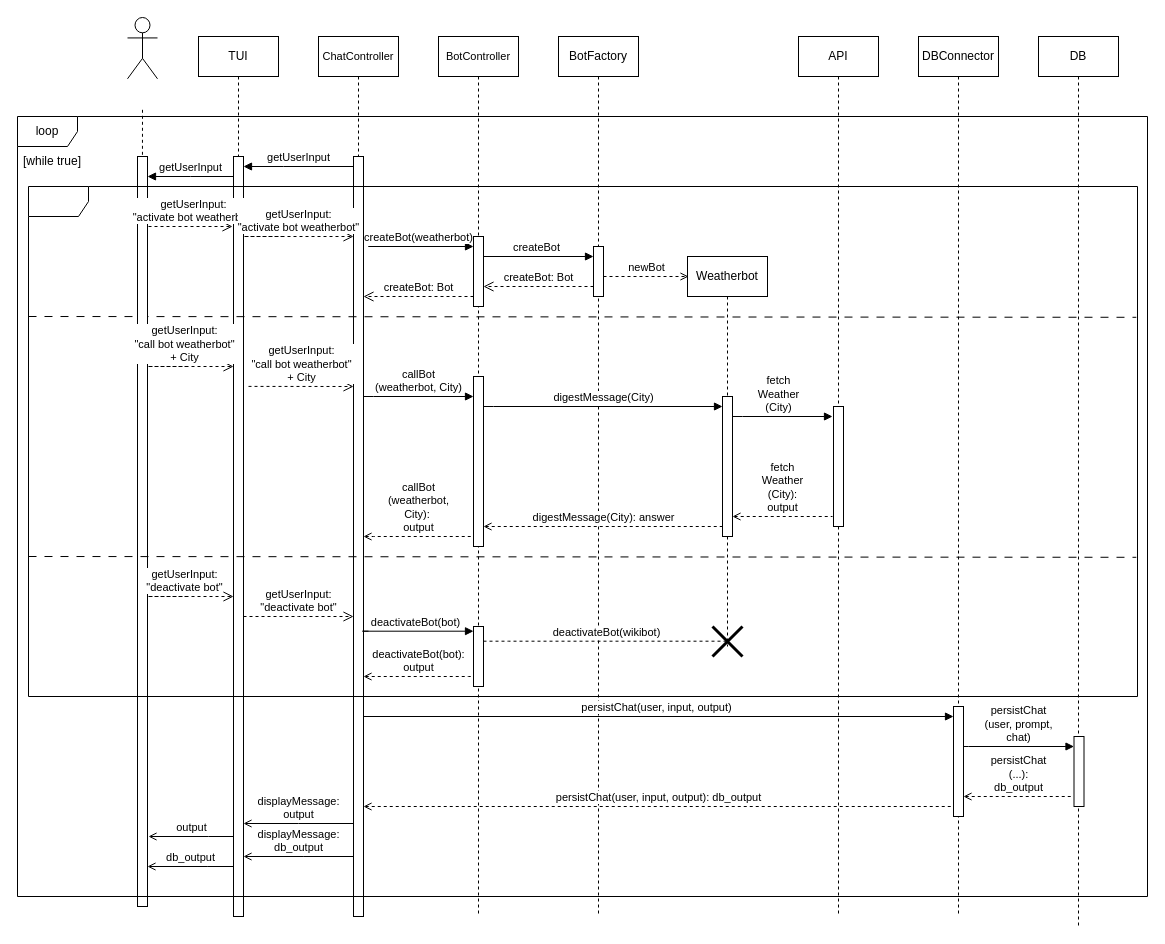
Some shapes in this 1165 by 944 pixel diagram are drawn without their labels. Here are the shapes that lost their labels. From the top down, the centre of each, then its label:
the point at 142,47: User
the point at 583,441: alt
